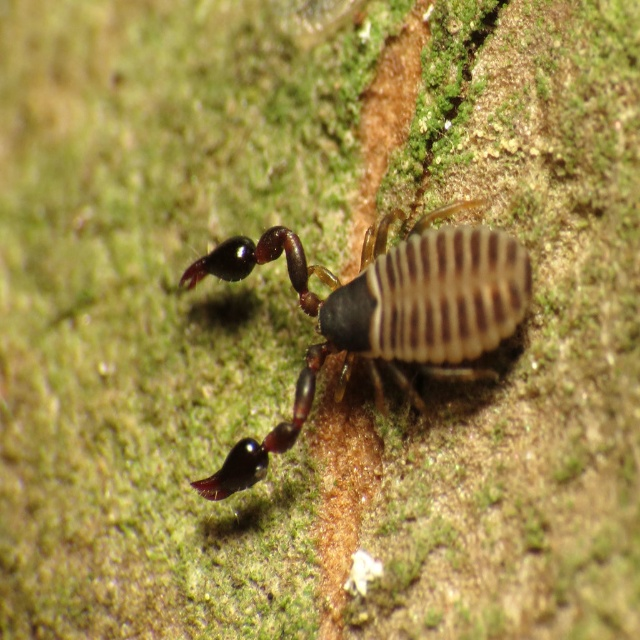Scorpion: (178, 190, 532, 505)
